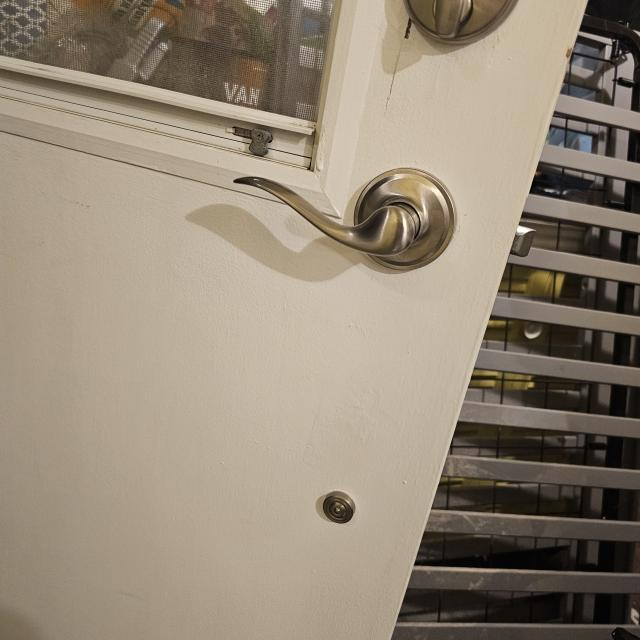door-handle: (234, 169, 456, 270)
